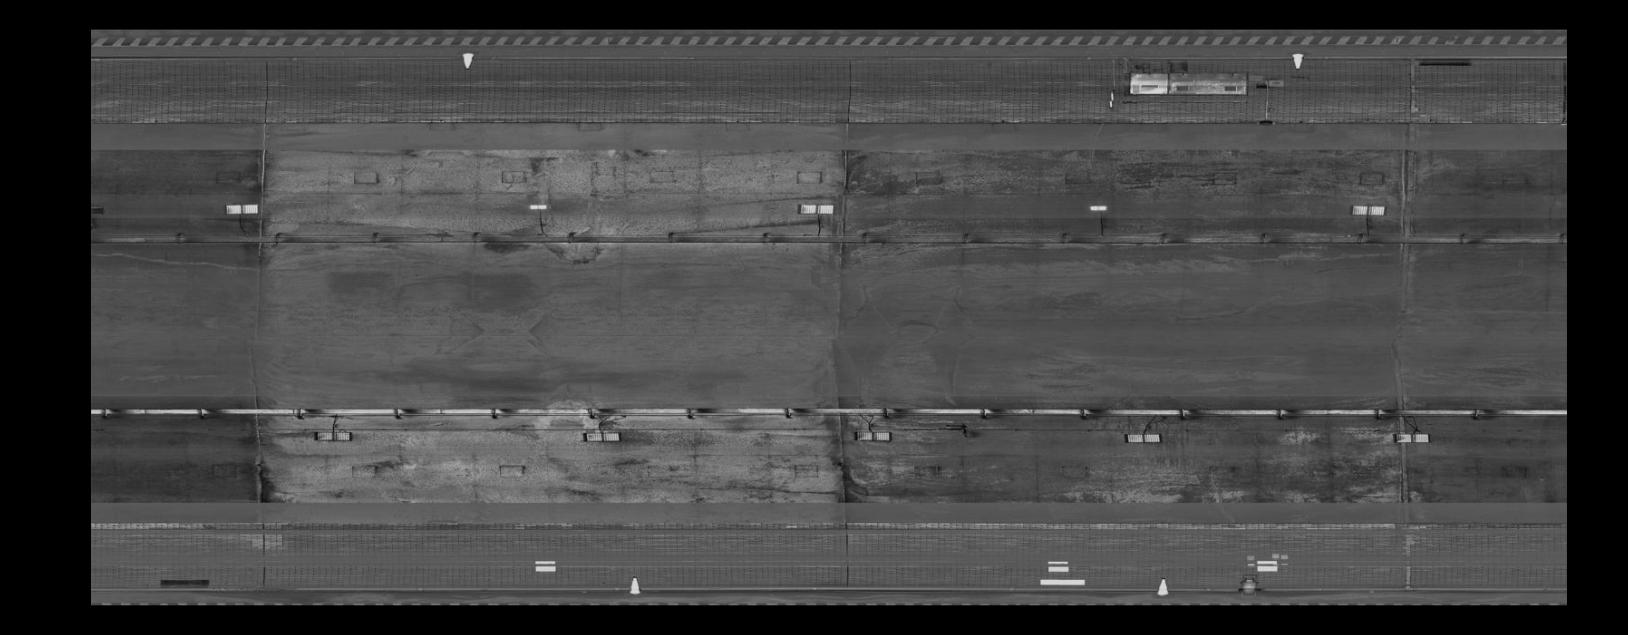light: (576, 429, 623, 446), (1119, 430, 1166, 447), (848, 427, 895, 444), (309, 427, 355, 444), (1345, 202, 1389, 218), (1390, 430, 1433, 445), (219, 200, 260, 215), (796, 201, 837, 216), (524, 202, 553, 211), (1084, 203, 1113, 212)
